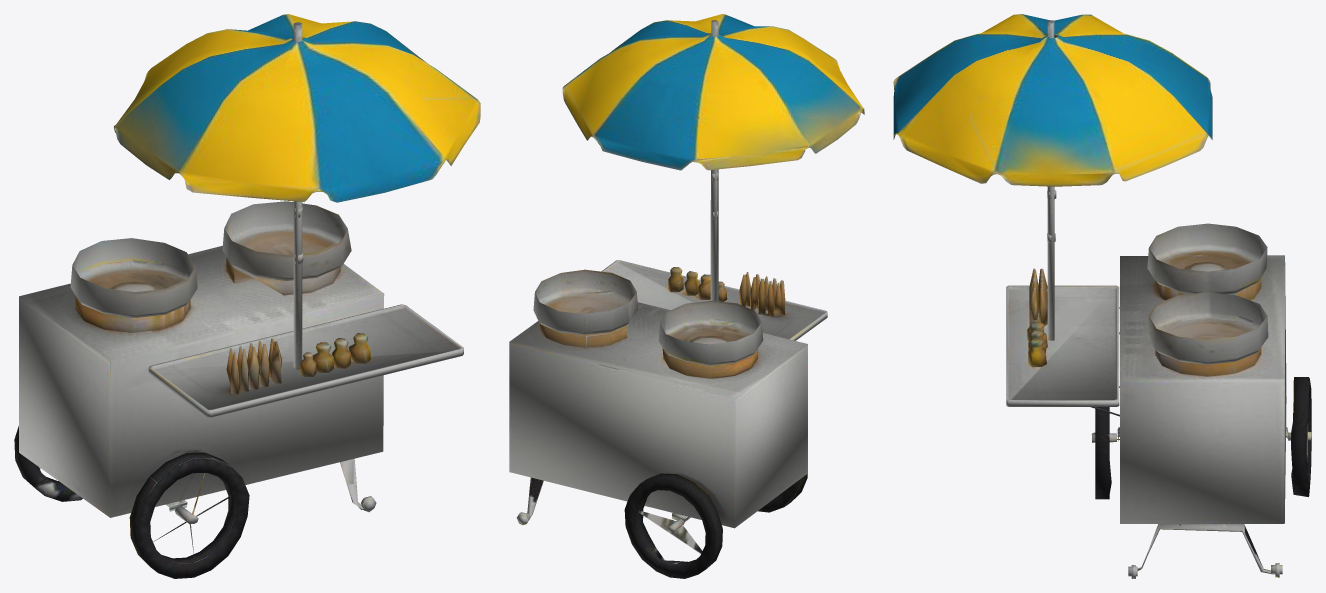
Rendered from hot_dog_cart.glb.
3 views of the same model, side by side, from view 1: azimuth 30°, elevation 25°; view 2: azimuth 150°, elevation 25°; view 3: azimuth 270°, elevation 25° (orthographic). The views are drawn at different scales.
Bounding box in the file's own units: 1.27 × 2.2 × 1.64.
Materials: 1 (1 with a texture image).
